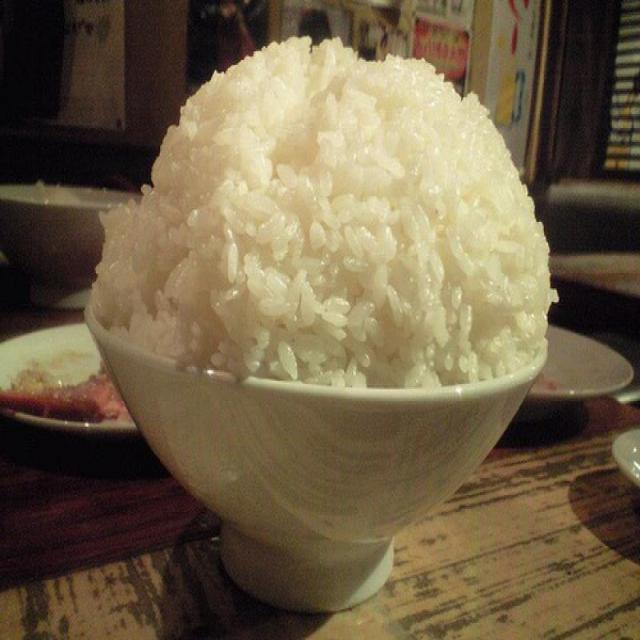nasi_putih: (93, 31, 550, 388)
